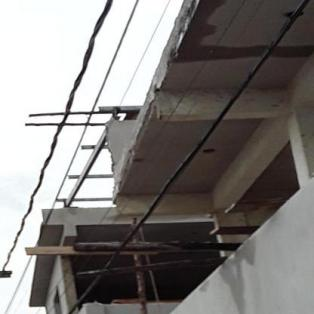Poste: (0, 263, 26, 314)
